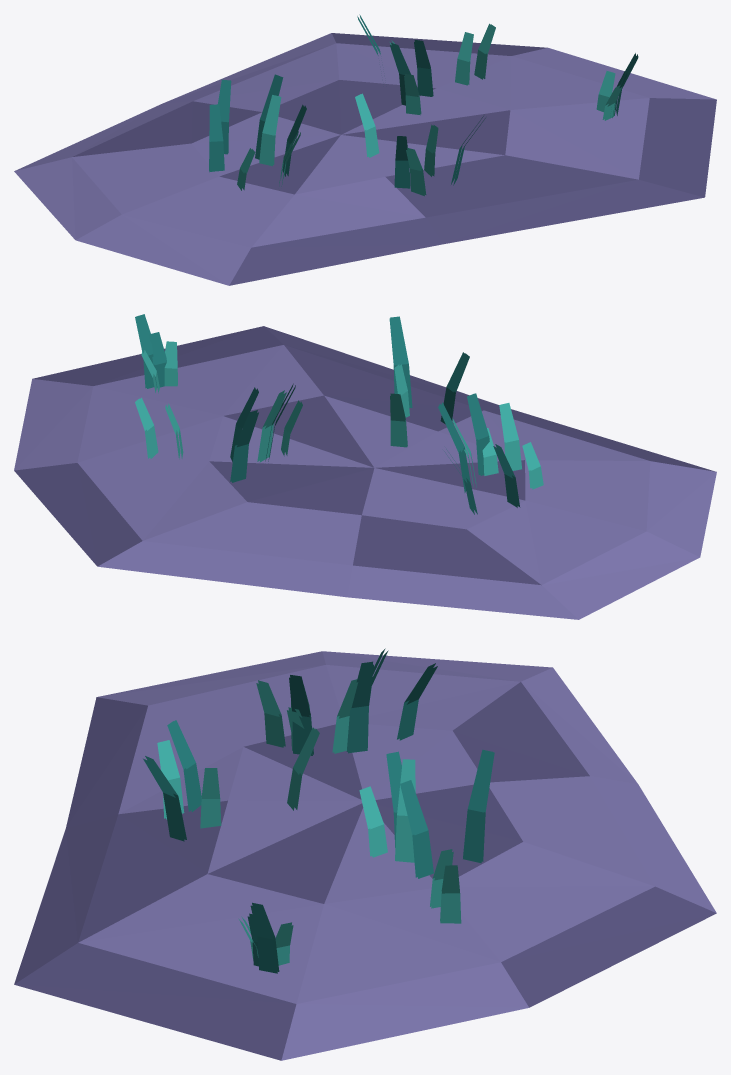
The model's file is floor_glow_grass.fbx.
The picture shows the model from 3 angles, top to bottom: view 1: azimuth 30°, elevation 25°; view 2: azimuth 150°, elevation 25°; view 3: azimuth 270°, elevation 25°; orthographic projection. The views are drawn at different scales.
Parts seen in each view (by area): view 1: floor_glow_grass; view 2: floor_glow_grass; view 3: floor_glow_grass.
Boxes of the visible parts, <box> form: floor_glow_grass: <box>14,14,716,285</box>; floor_glow_grass: <box>14,314,716,619</box>; floor_glow_grass: <box>14,648,716,1060</box>.
Size of the model in its own units: 1890 by 287 by 1374.
1 material, 1 textured.
